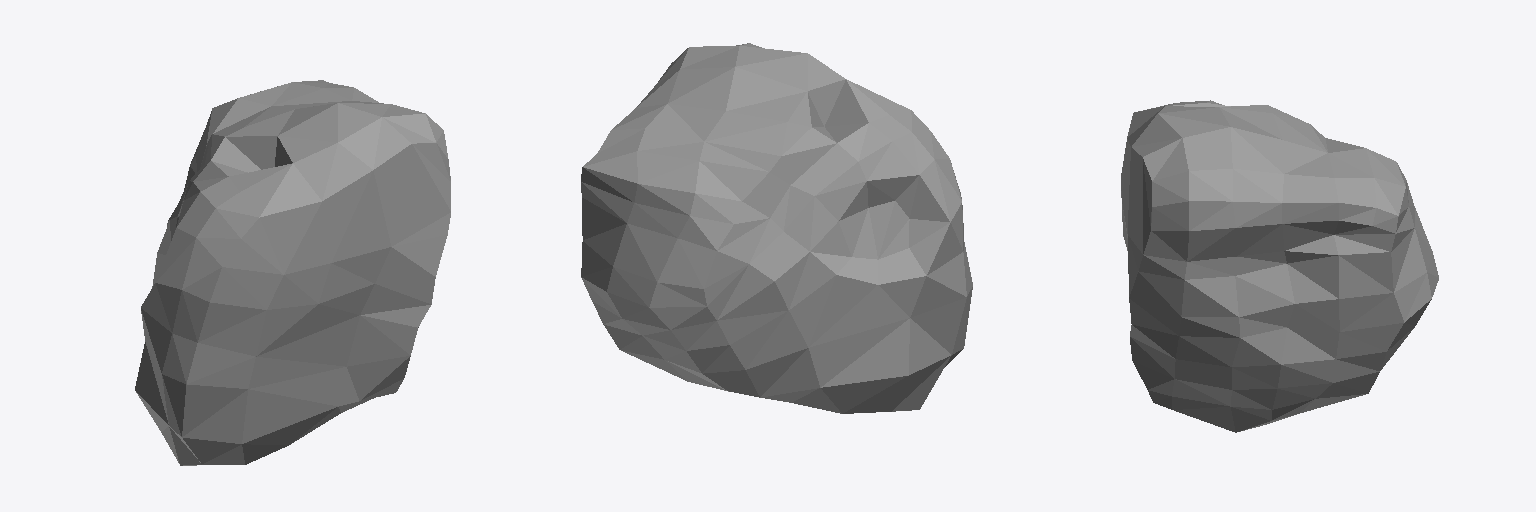
File: rock_multi.obj
3 renders of one model, left to right at view 1: azimuth 30°, elevation 25°; view 2: azimuth 150°, elevation 25°; view 3: azimuth 270°, elevation 25°, orthographic.
Visible parts, largest first — view 1: Rock; view 2: Rock; view 3: Rock.
Part boxes in pixels (left/top/right/bottom): Rock: left=135, top=80, right=450, bottom=465; Rock: left=581, top=43, right=972, bottom=413; Rock: left=1121, top=100, right=1438, bottom=432.
Size of the model in its own units: 7.23 by 7.4 by 6.8.